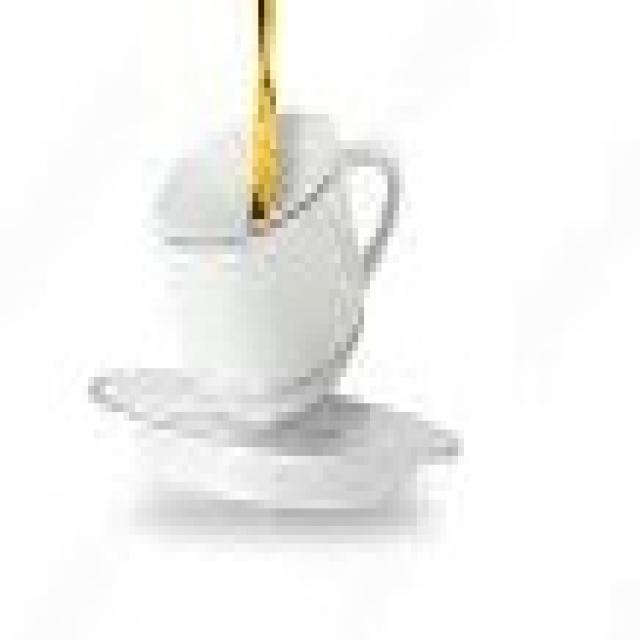taza: (129, 100, 410, 427)
